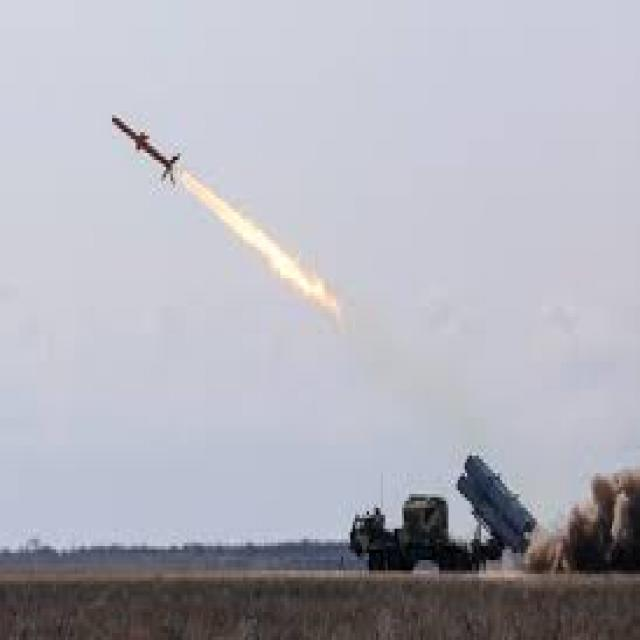missile: (105, 113, 181, 182)
